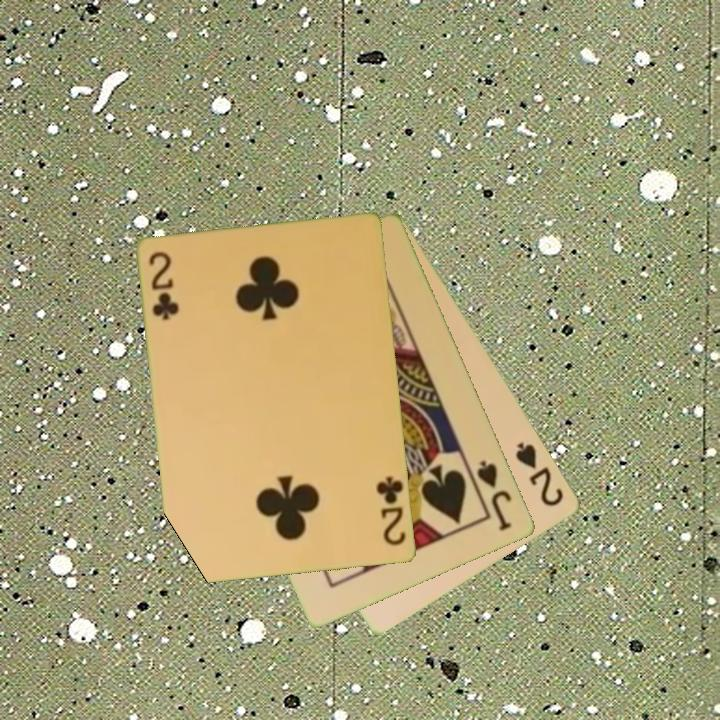2c: (373, 473, 409, 549), (146, 249, 181, 324)
2s: (512, 438, 568, 510)
Js: (474, 457, 515, 534)
